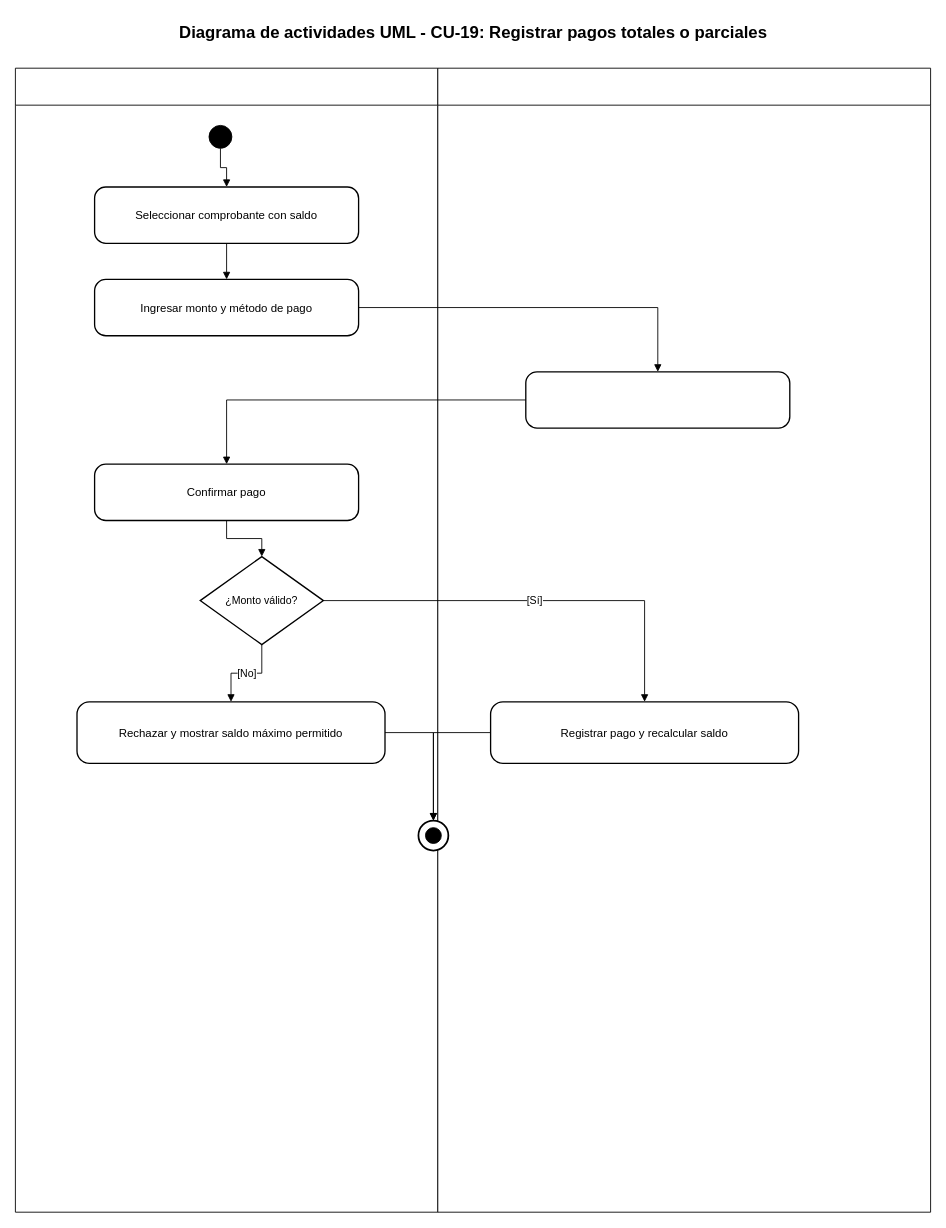
This 946x1228 diagram has some shape labels left out. Each missing label, with the box of its shape:
Recepción / Facturación: (15, 67, 438, 1212)
SICM / Sistema: (437, 67, 931, 1212)
Validar monto contra saldo: (525, 371, 790, 428)
